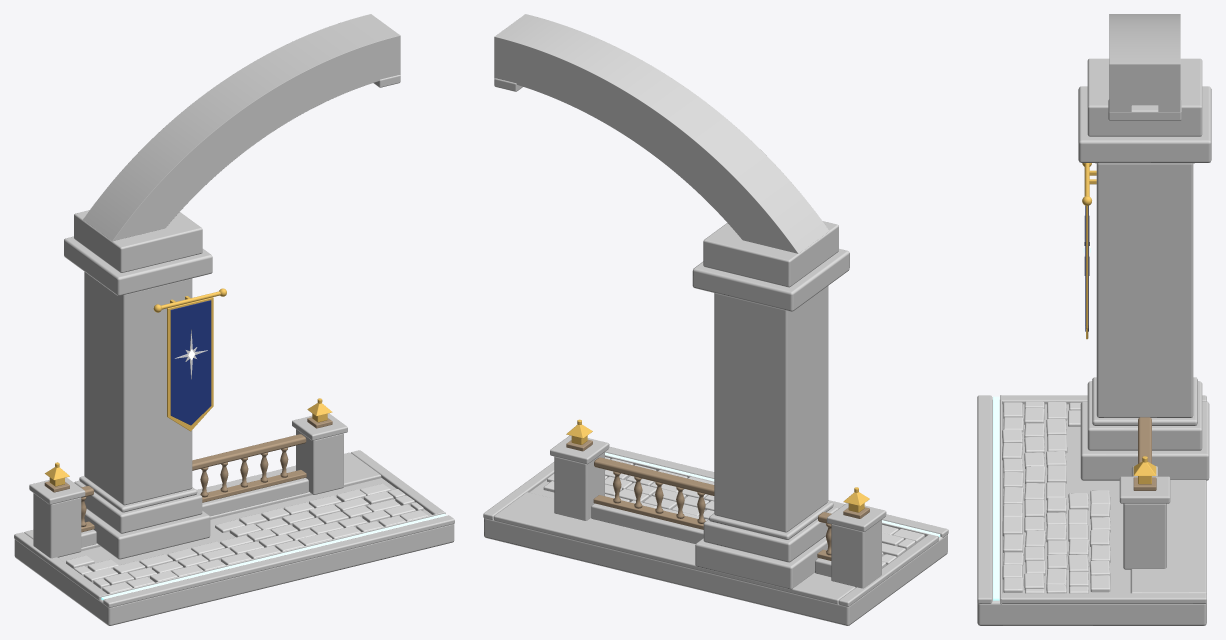
Rendered from Lobby_MarbleArch.fbx.
The picture shows the model from 3 angles, left to right: view 1: azimuth 30°, elevation 25°; view 2: azimuth 150°, elevation 25°; view 3: azimuth 270°, elevation 25°; orthographic projection. The views are drawn at different scales.
Parts seen in each view (by area): view 1: Lobby_MarbleArch__Marble, Lobby_MarbleArch__Cobble, Lobby_MarbleArch__NavyCloth, Lobby_MarbleArch__Bronze, Lobby_MarbleArch__Gold, Lobby_MarbleArch__NeonCyan; view 2: Lobby_MarbleArch__Marble, Lobby_MarbleArch__Bronze, Lobby_MarbleArch__Cobble, Lobby_MarbleArch__Gold; view 3: Lobby_MarbleArch__Marble, Lobby_MarbleArch__Cobble, Lobby_MarbleArch__NeonCyan, Lobby_MarbleArch__Gold, Lobby_MarbleArch__Bronze.
Part boxes in pixels (bbox=[...]): Lobby_MarbleArch__Marble: bbox=[14, 14, 454, 625]; Lobby_MarbleArch__Cobble: bbox=[66, 483, 427, 593]; Lobby_MarbleArch__NavyCloth: bbox=[170, 300, 211, 425]; Lobby_MarbleArch__Bronze: bbox=[44, 417, 332, 532]; Lobby_MarbleArch__Gold: bbox=[45, 288, 332, 486]; Lobby_MarbleArch__NeonCyan: bbox=[101, 513, 446, 600]; Lobby_MarbleArch__Marble: bbox=[483, 14, 948, 625]; Lobby_MarbleArch__Bronze: bbox=[566, 439, 869, 560]; Lobby_MarbleArch__Cobble: bbox=[543, 457, 924, 568]; Lobby_MarbleArch__Gold: bbox=[566, 419, 869, 512]; Lobby_MarbleArch__Marble: bbox=[977, 14, 1211, 625]; Lobby_MarbleArch__Cobble: bbox=[1002, 401, 1110, 593]; Lobby_MarbleArch__NeonCyan: bbox=[993, 396, 999, 600]; Lobby_MarbleArch__Gold: bbox=[1082, 163, 1156, 484]; Lobby_MarbleArch__Bronze: bbox=[1133, 417, 1156, 490].
Size of the model in its own units: 21 by 27.05 by 10.2.
